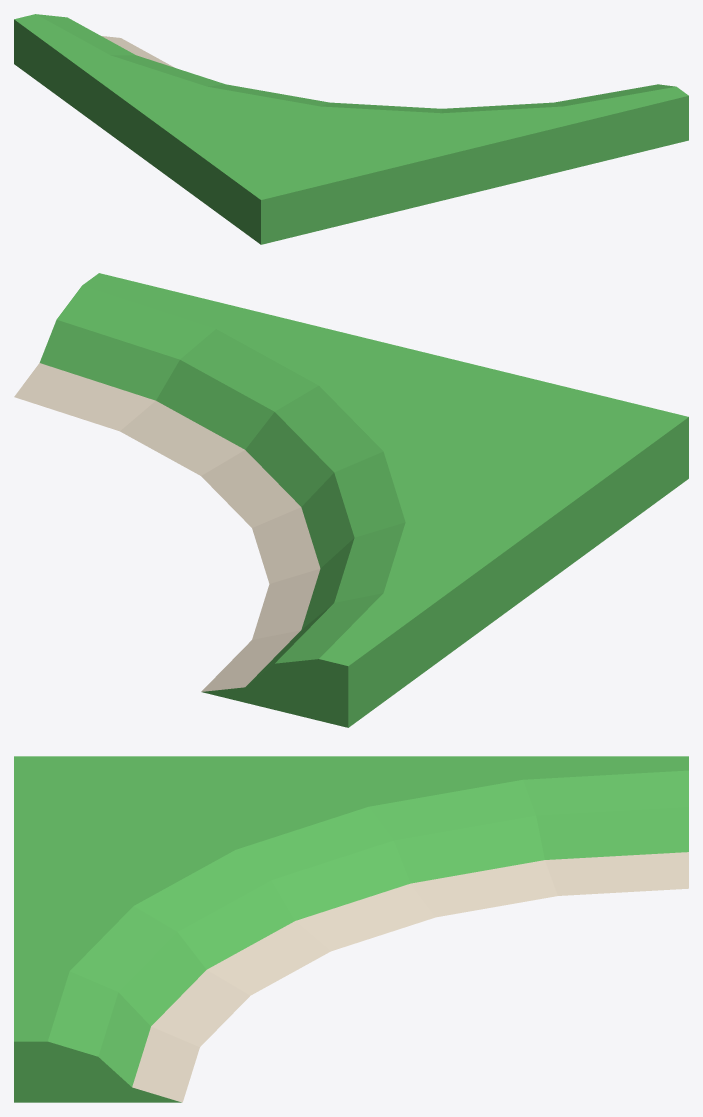
The model's file is Path_Corner_Outer_2x2.glb.
3 views of the same model, one above another, from view 1: azimuth 30°, elevation 25°; view 2: azimuth 150°, elevation 25°; view 3: azimuth 270°, elevation 25° (orthographic). The views are drawn at different scales.
Visible parts, largest first — view 1: object1; view 2: object1; view 3: object1.
Part boxes in pixels (box(x1,y1,x2,y2)): object1: box(14, 14, 688, 244); object1: box(14, 273, 688, 727); object1: box(14, 756, 688, 1102).
Bounding box in the file's own units: 2 × 0.2 × 2.
